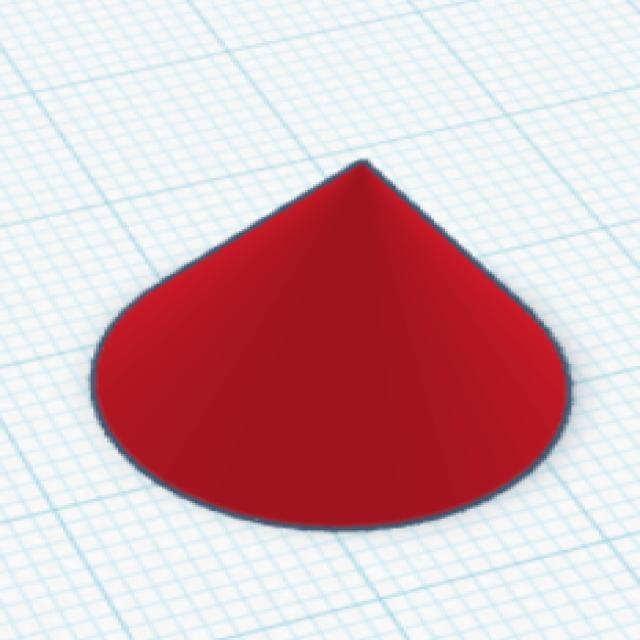cone: (84, 152, 580, 538)
